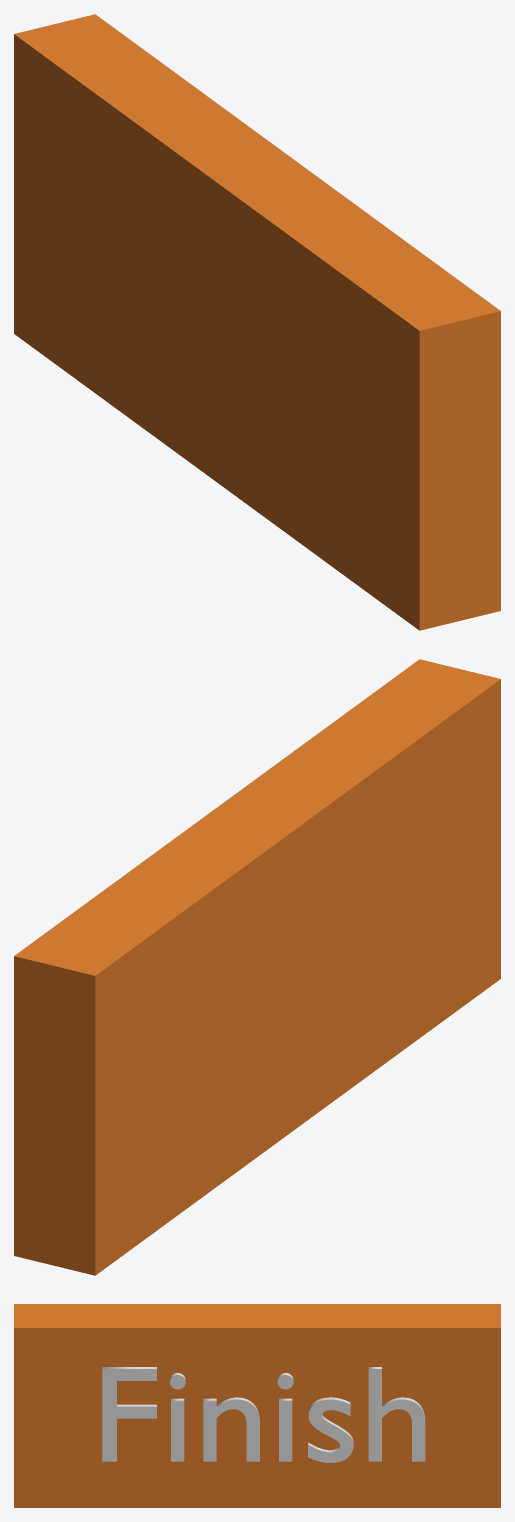
Rendered from finish.fbx.
3 views of the same model, one above another, from view 1: azimuth 30°, elevation 25°; view 2: azimuth 150°, elevation 25°; view 3: azimuth 270°, elevation 25° (orthographic). The views are drawn at different scales.
Visible parts, largest first — view 1: Cube; view 2: Cube; view 3: Cube, Text.
Boxes of the visible parts, left/top/right/bottom form: Cube: left=14, top=14, right=500, bottom=630; Cube: left=14, top=659, right=500, bottom=1275; Cube: left=14, top=1304, right=500, bottom=1507; Text: left=102, top=1367, right=425, bottom=1462.
Size of the model in its own units: 61.85 by 200 by 490.
